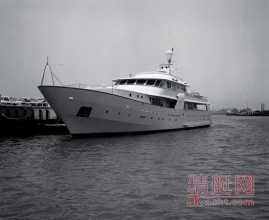yacht: (31, 44, 215, 136)
